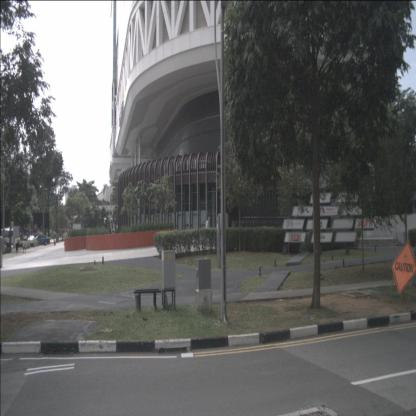human-pedestrian-adult: (205, 217, 211, 248), (22, 232, 28, 254), (15, 236, 19, 253)
vehicle-bus-rigid: (1, 226, 22, 246)
vehicle-car: (31, 235, 50, 246), (28, 236, 35, 245)
